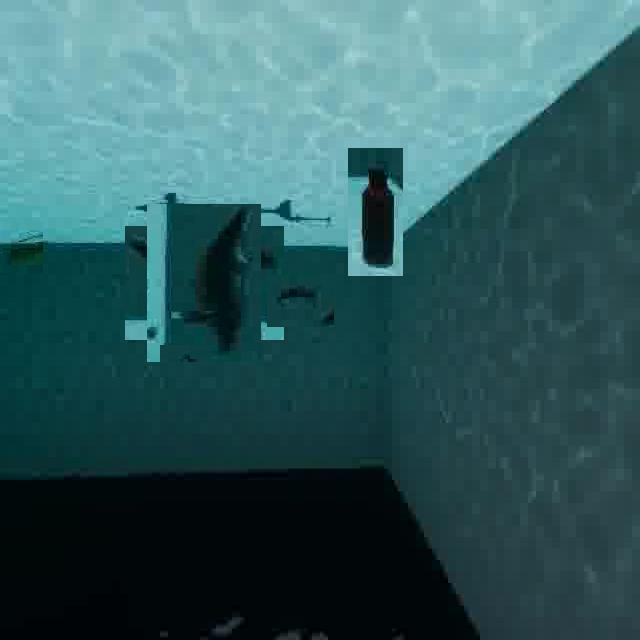Cylinder: (348, 147, 403, 276)
Pipe: (0, 220, 43, 272)
Whale: (136, 215, 272, 351), (267, 275, 334, 327)
